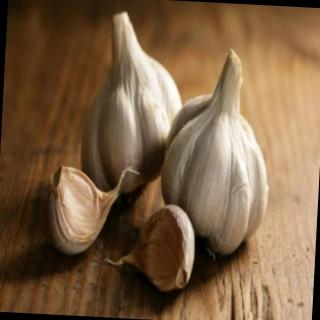Bawang Putih: (79, 9, 187, 198), (159, 93, 275, 258), (116, 198, 199, 293), (47, 167, 101, 257)
